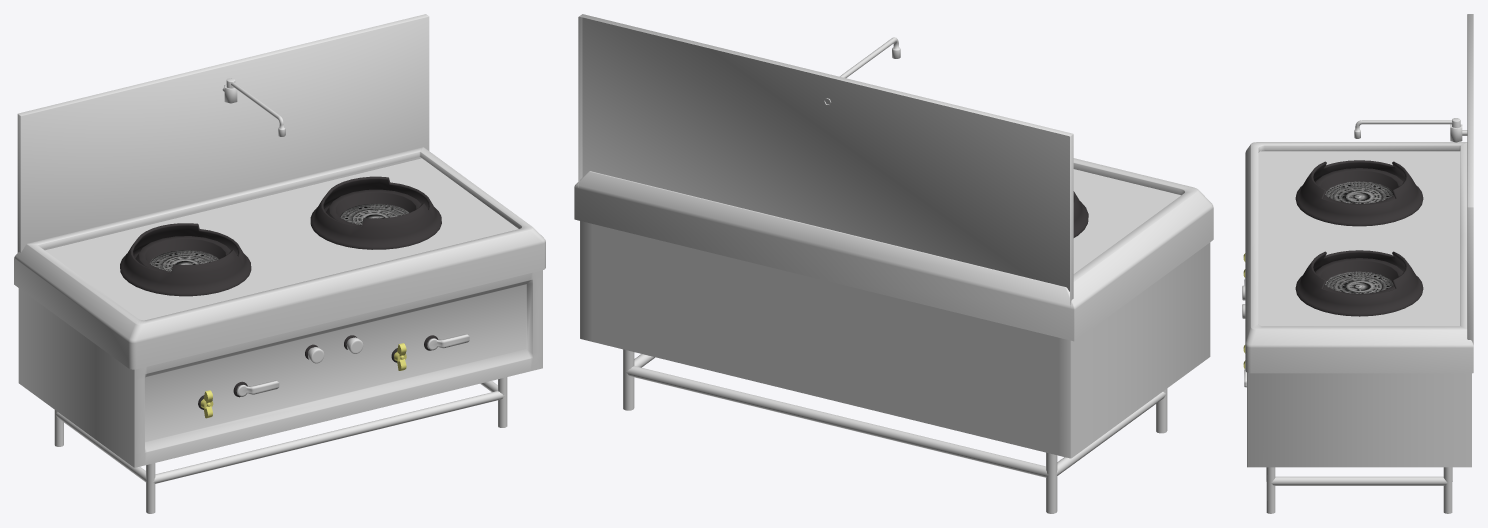
Rendered from Kompor Industri.fbx.
3 views of the same model, side by side, from view 1: azimuth 30°, elevation 25°; view 2: azimuth 150°, elevation 25°; view 3: azimuth 270°, elevation 25° (orthographic). The views are drawn at different scales.
Parts seen in each view (by area): view 1: Kompor; view 2: Kompor; view 3: Kompor, Kran Air.
Part boxes in pixels (x1,y1,x2,y2): Kompor: (14,14,545,513); Kompor: (574,14,1213,513); Kompor: (1245,14,1473,513); Kran Air: (1354,118,1460,138).
Size of the model in its own units: 153 by 115 by 75.97.
Materials: 1 (1 with a texture image).
